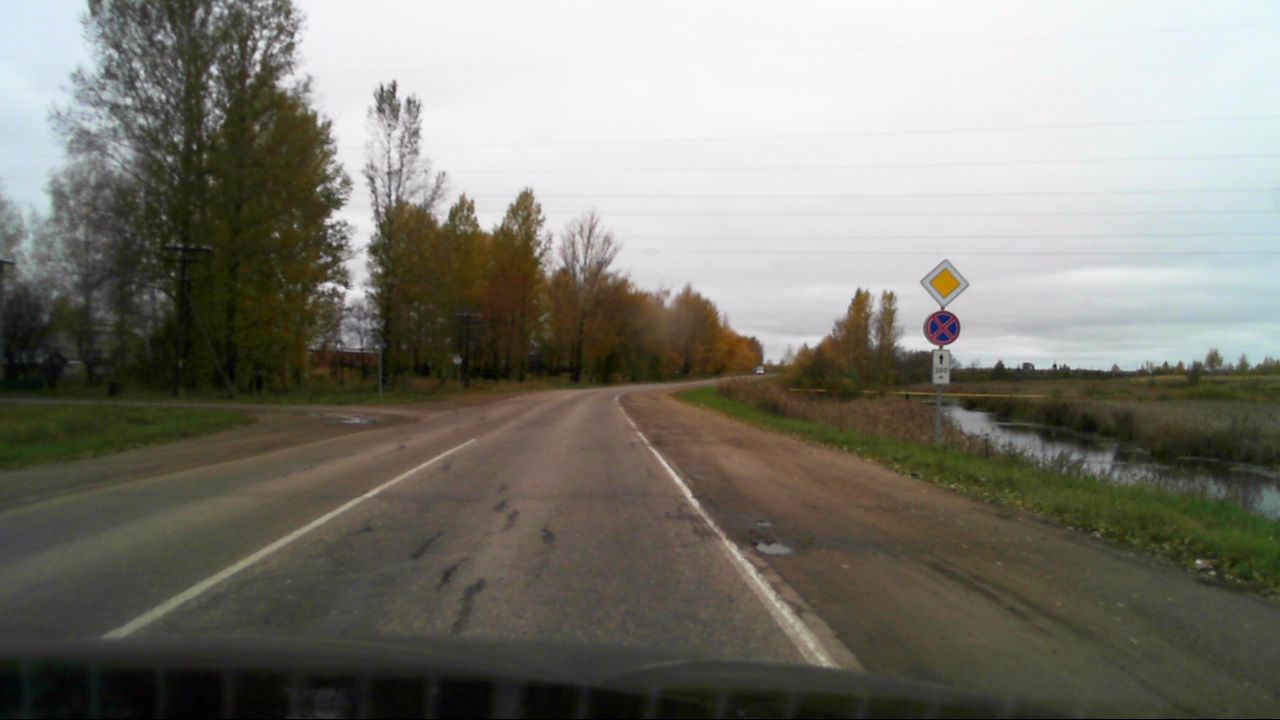No Parking: (923, 312, 957, 344)
